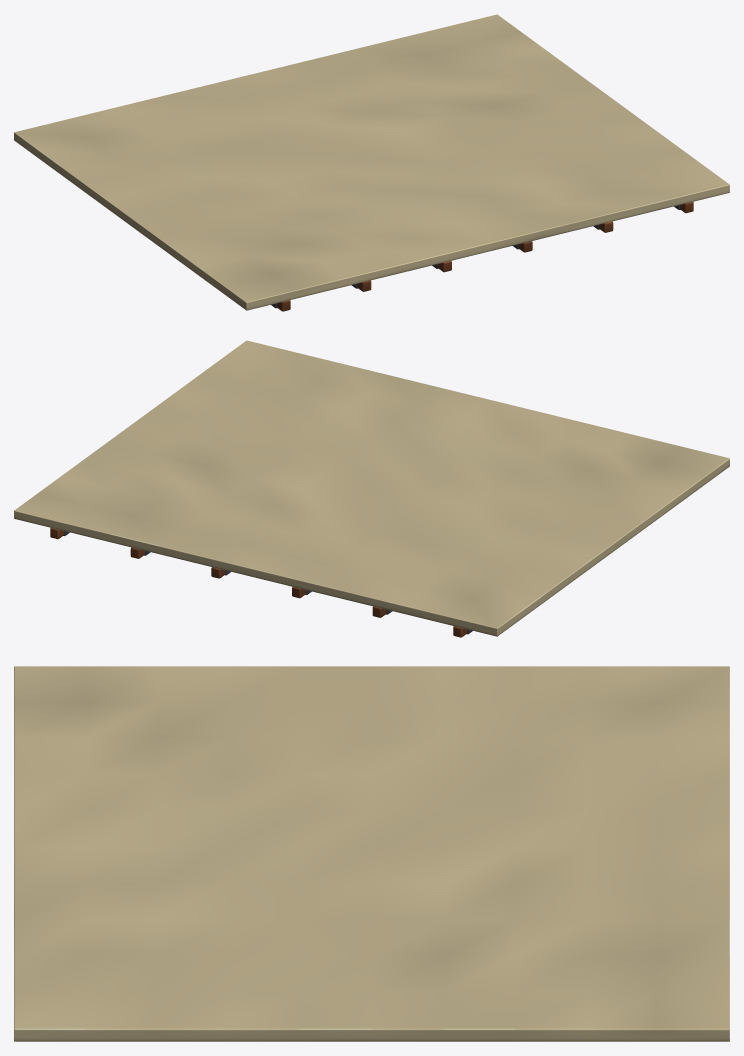
The model's file is SM_Office_Ceiling.fbx.
3 views of the same model, one above another, from view 1: azimuth 30°, elevation 25°; view 2: azimuth 150°, elevation 25°; view 3: azimuth 270°, elevation 25° (orthographic). The views are drawn at different scales.
Parts seen in each view (by area): view 1: SM_Office_Ceiling; view 2: SM_Office_Ceiling; view 3: SM_Office_Ceiling.
Part boxes in pixels (x1,y1,x2,y2): SM_Office_Ceiling: (14,14,729,311); SM_Office_Ceiling: (14,340,729,637); SM_Office_Ceiling: (14,666,729,1041).
Size of the model in its own units: 1200 by 45.22 by 1000.
